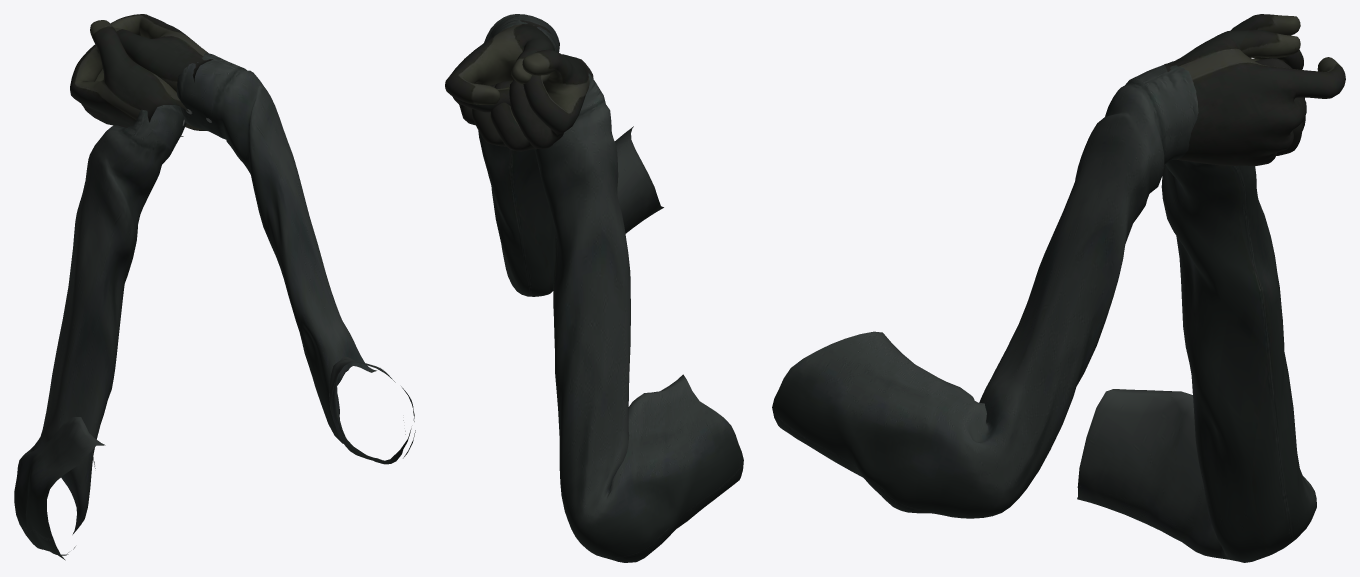
The model's file is smg45_pistol_service_arms.glb.
3 views of the same model, side by side, from view 1: azimuth 30°, elevation 25°; view 2: azimuth 150°, elevation 25°; view 3: azimuth 270°, elevation 25° (orthographic). The views are drawn at different scales.
Visible parts, largest first — view 1: LeftArmMesh, RightArmMesh; view 2: LeftArmMesh, RightArmMesh; view 3: RightArmMesh, LeftArmMesh.
Part boxes in pixels (<box>): LeftArmMesh: <box>14,20,188,560</box>; RightArmMesh: <box>110,14,415,464</box>; LeftArmMesh: <box>472,49,743,562</box>; RightArmMesh: <box>445,14,663,296</box>; RightArmMesh: <box>772,29,1345,518</box>; LeftArmMesh: <box>1077,14,1316,562</box>.
Size of the model in its own units: 0.7015 by 1.17 by 1.04.
Materials: 4 (4 with a texture image).
